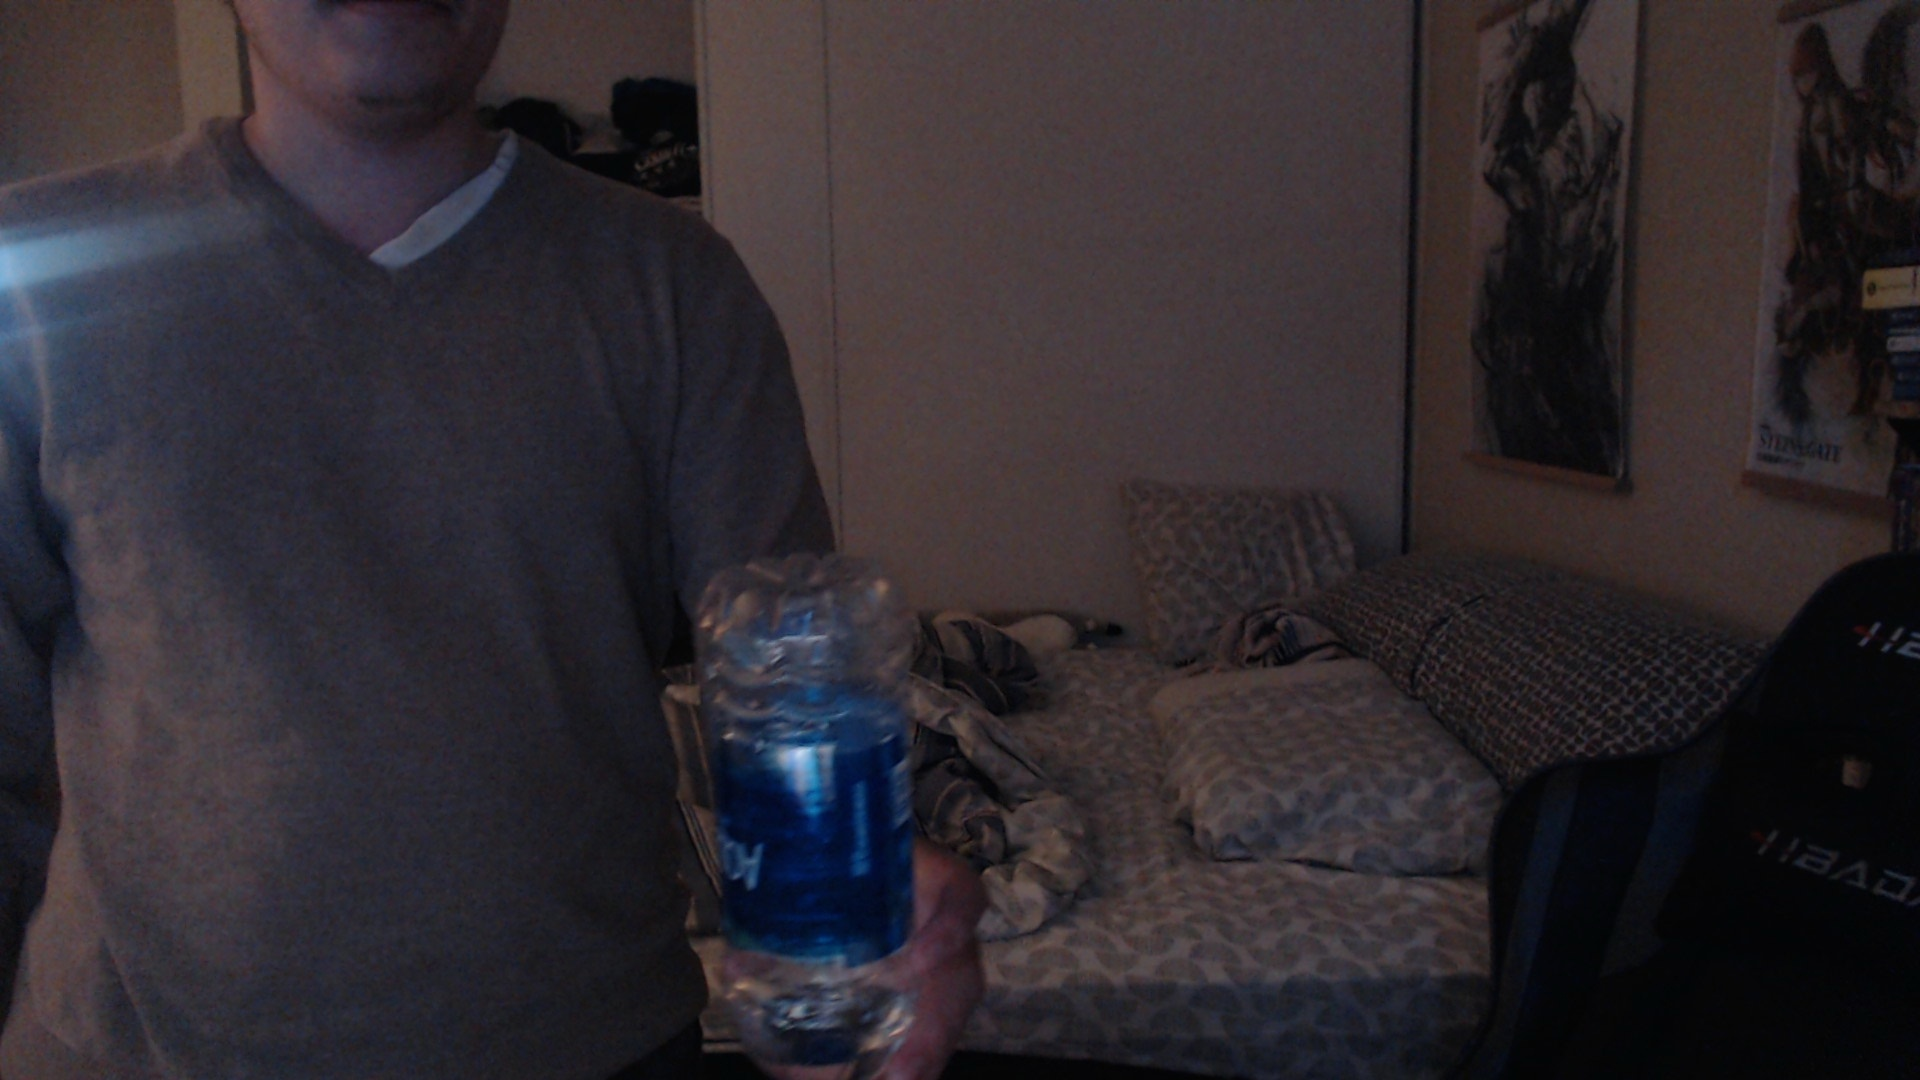bottle: (702, 549, 909, 1080)
